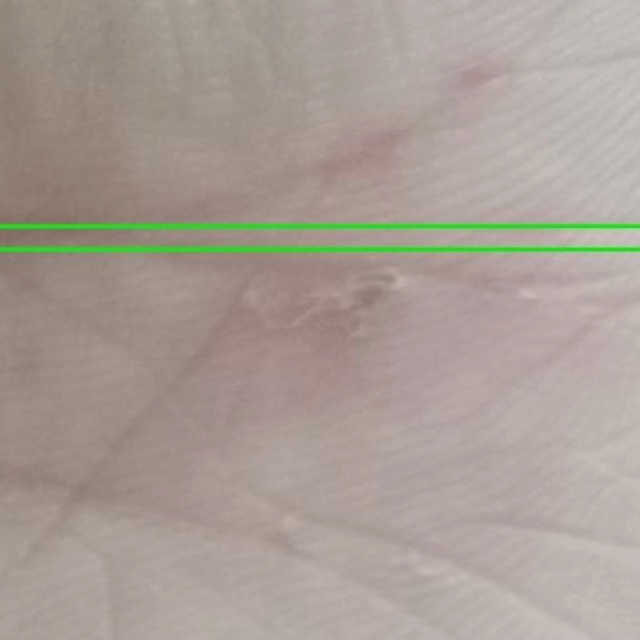Scabies: (0, 227, 639, 639), (0, 0, 639, 249)
